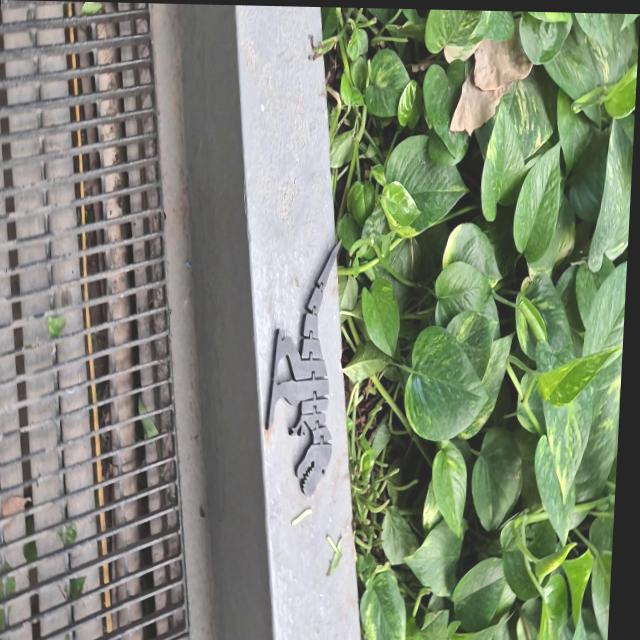dino: (260, 237, 343, 498)
